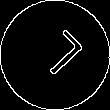L_SW: (26, 26, 84, 84)
